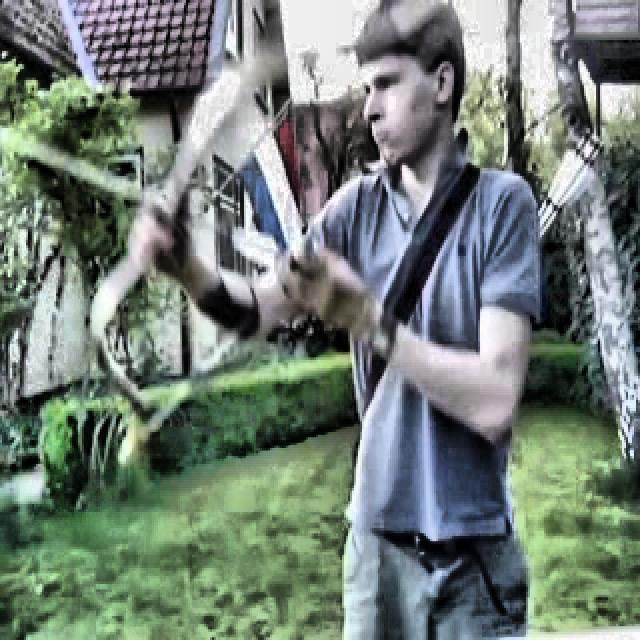P: (135, 6, 538, 632)
